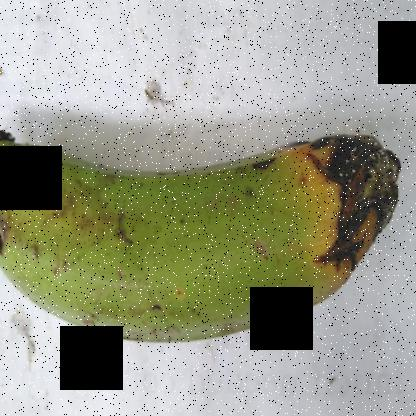rotten: (283, 101, 416, 313)
unripe: (0, 142, 312, 370)
